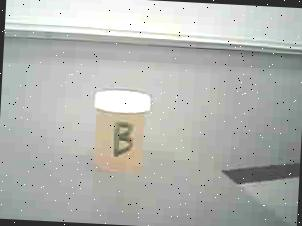Bottle B: (78, 82, 161, 181)
